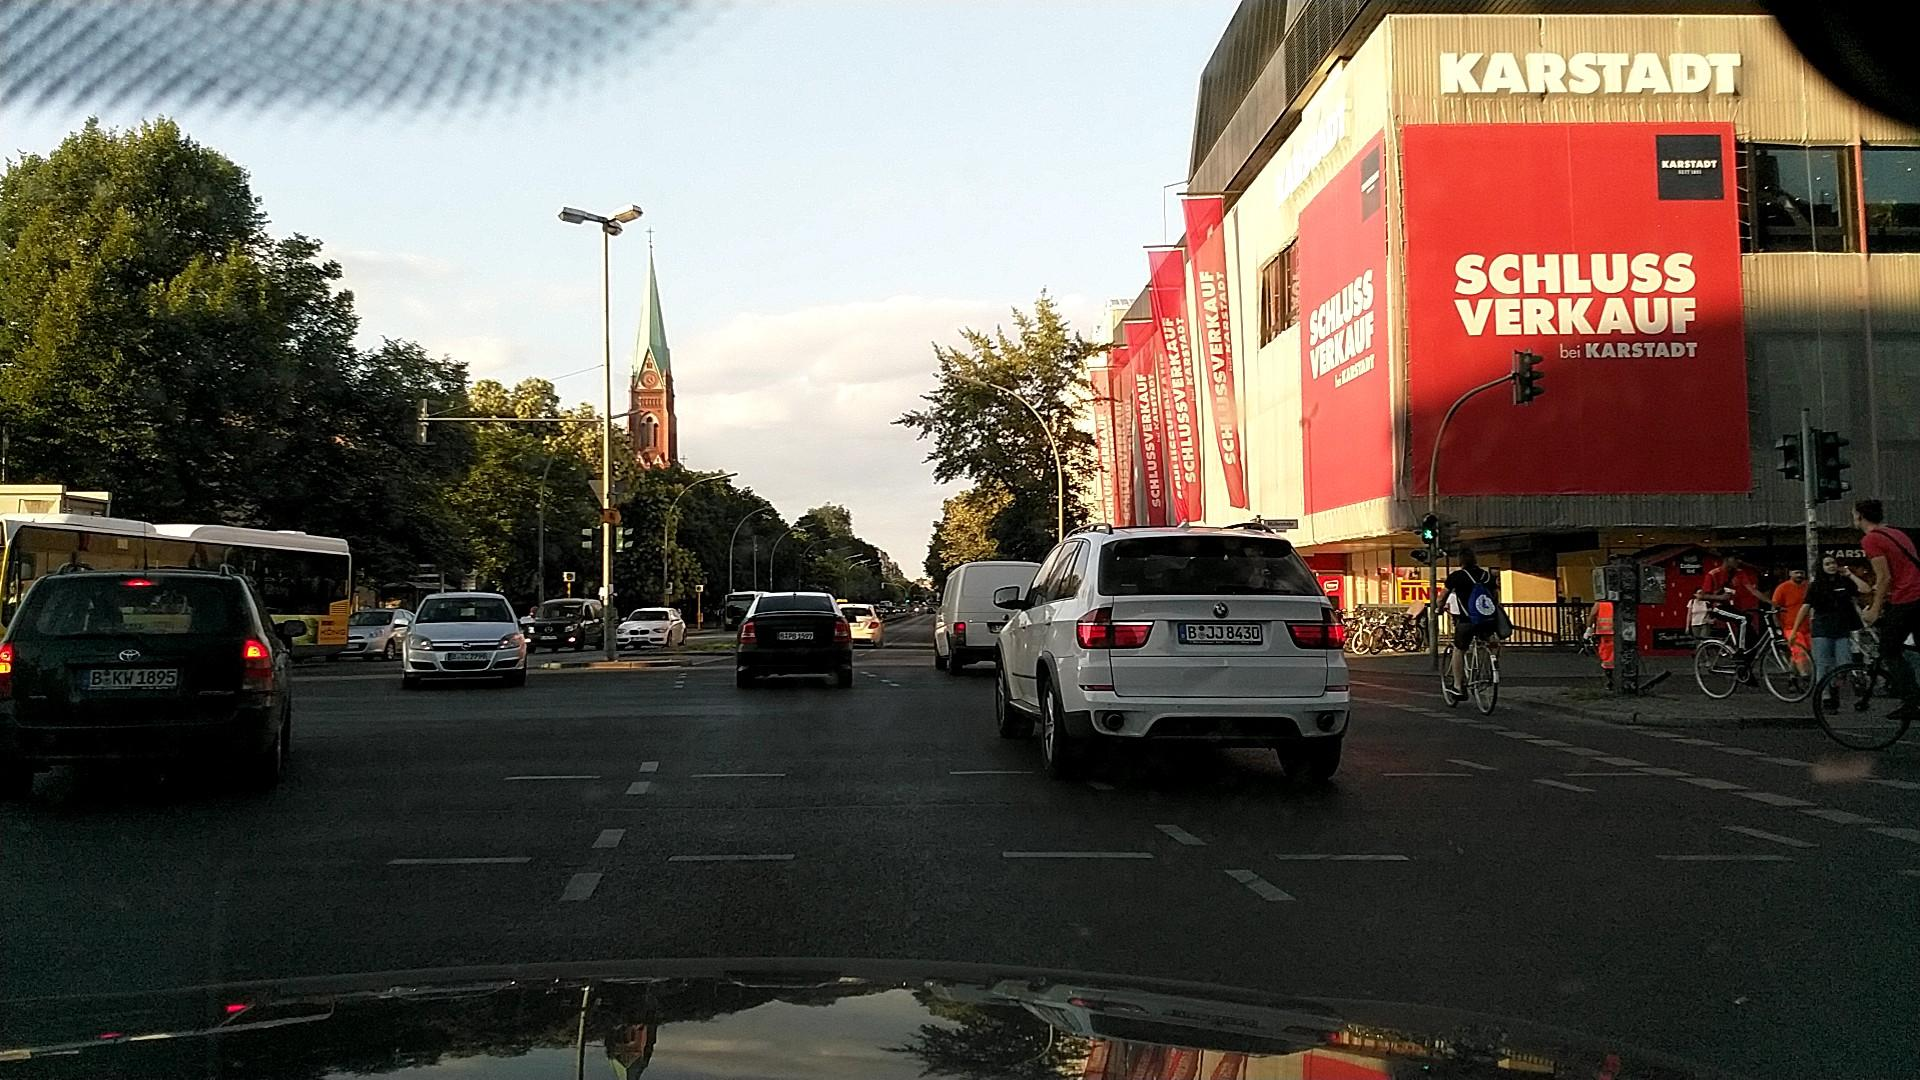Human face: (1849, 499, 1879, 532), (1721, 549, 1744, 570), (1819, 556, 1838, 575), (1787, 564, 1806, 583), (1693, 587, 1705, 600)
Vehicle registration plate: (78, 668, 179, 690), (1177, 624, 1263, 645), (445, 652, 488, 661), (776, 631, 815, 641)
